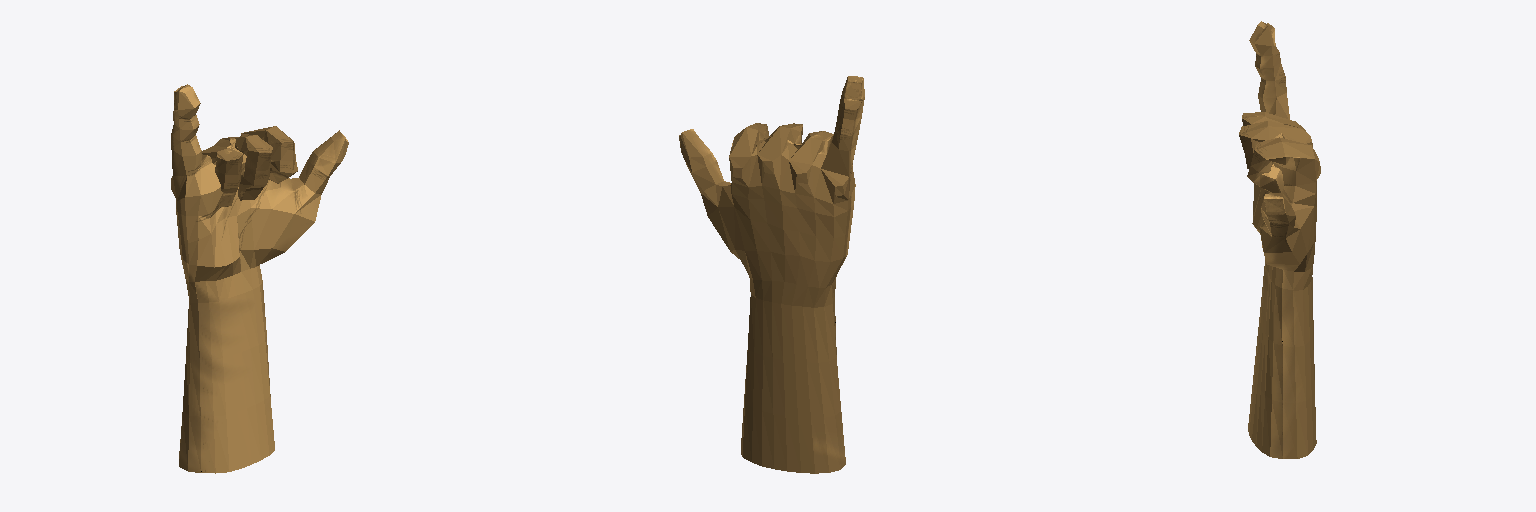
3 renders of one model, left to right at view 1: azimuth 30°, elevation 25°; view 2: azimuth 150°, elevation 25°; view 3: azimuth 270°, elevation 25°, orthographic.
Parts seen in each view (by area): view 1: base_hand_o_base_hand_m; view 2: base_hand_o_base_hand_m; view 3: base_hand_o_base_hand_m.
Boxes of the visible parts, box(x1,y1,x2,y2) form: base_hand_o_base_hand_m: box(171, 84, 348, 473); base_hand_o_base_hand_m: box(679, 76, 864, 473); base_hand_o_base_hand_m: box(1239, 21, 1320, 458).
Size of the model in its own units: 0.4202 by 0.8855 by 0.1706.
Materials: 1 (1 with a texture image).